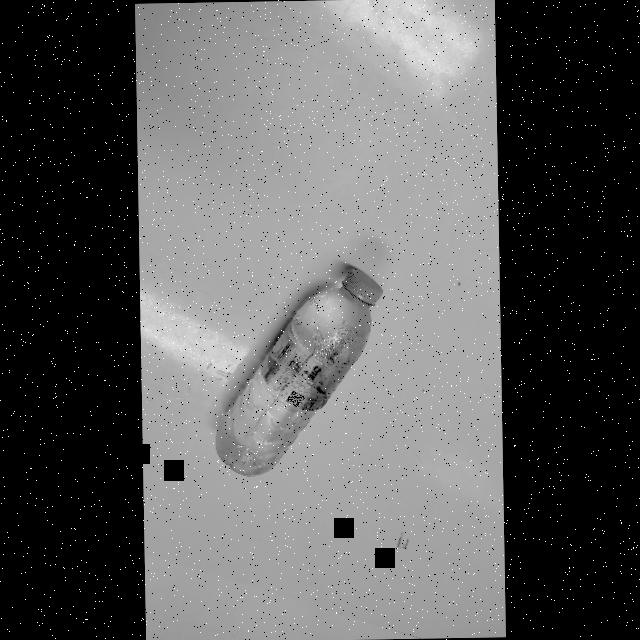plastic_bottle: (210, 262, 388, 480)
plastic_bottle_cap: (342, 266, 383, 310)
